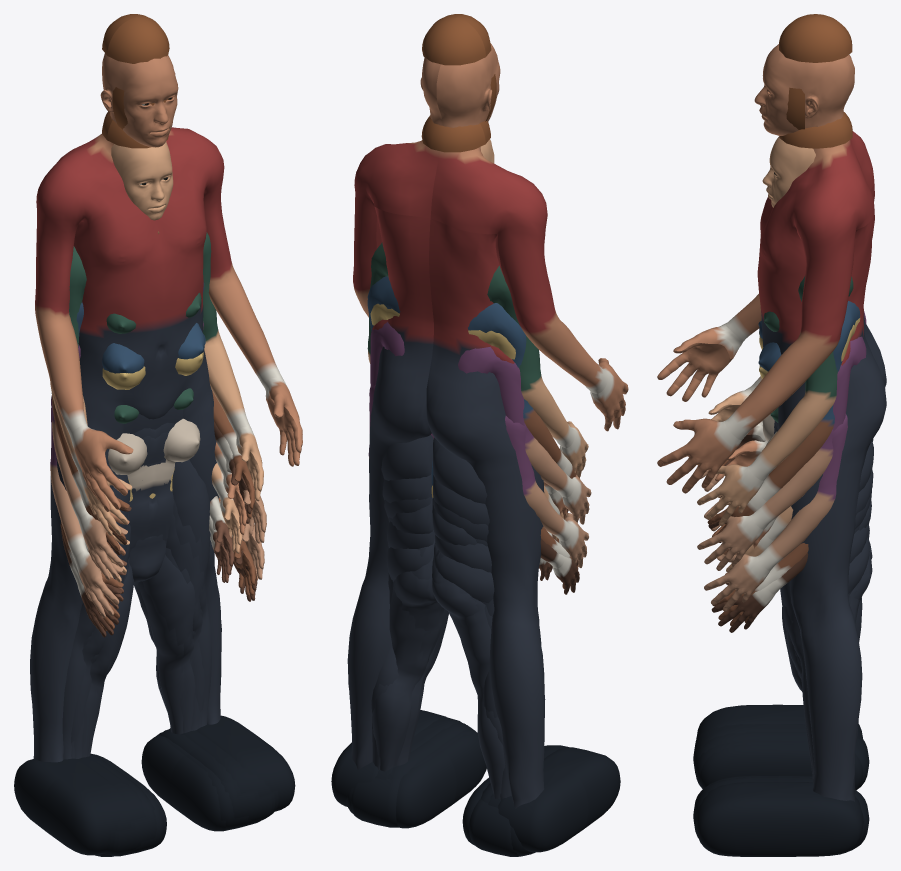
File: crowd-source.glb
The picture shows the model from 3 angles, left to right: view 1: azimuth 30°, elevation 25°; view 2: azimuth 150°, elevation 25°; view 3: azimuth 270°, elevation 25°; orthographic projection. The views are drawn at different scales.
Visible parts, largest first — view 1: crowd-6, crowd-3, crowd-5, crowd-11, crowd-8, crowd-7, crowd-0, crowd-10, crowd-4, crowd-2, crowd-9, crowd-1; view 2: crowd-6, crowd-1, crowd-3, crowd-4, crowd-11, crowd-7, crowd-2, crowd-10, crowd-8, crowd-5, crowd-9, crowd-0; view 3: crowd-6, crowd-3, crowd-4, crowd-10, crowd-7, crowd-11, crowd-8, crowd-1, crowd-2, crowd-5, crowd-0, crowd-9.
Part boxes in pixels (left/top/right/bottom): crowd-6: left=14, top=14, right=302, bottom=855; crowd-3: left=50, top=111, right=278, bottom=853; crowd-5: left=82, top=418, right=262, bottom=856; crowd-11: left=88, top=516, right=239, bottom=852; crowd-8: left=71, top=352, right=251, bottom=809; crowd-7: left=51, top=207, right=275, bottom=854; crowd-0: left=74, top=442, right=272, bottom=855; crowd-10: left=50, top=395, right=264, bottom=856; crowd-4: left=51, top=321, right=266, bottom=580; crowd-2: left=61, top=468, right=257, bottom=856; crowd-9: left=90, top=388, right=263, bottom=855; crowd-1: left=60, top=497, right=255, bottom=736; crowd-6: left=331, top=14, right=628, bottom=852; crowd-1: left=351, top=461, right=578, bottom=856; crowd-3: left=367, top=115, right=588, bottom=807; crowd-4: left=346, top=322, right=591, bottom=855; crowd-11: left=392, top=558, right=552, bottom=844; crowd-7: left=367, top=276, right=576, bottom=525; crowd-2: left=394, top=485, right=579, bottom=856; crowd-10: left=368, top=385, right=588, bottom=744; crowd-8: left=370, top=303, right=567, bottom=803; crowd-5: left=386, top=531, right=556, bottom=791; crowd-9: left=387, top=486, right=566, bottom=572; crowd-0: left=372, top=319, right=568, bottom=730; crowd-6: left=657, top=14, right=886, bottom=856; crowd-3: left=695, top=112, right=873, bottom=833; crowd-4: left=697, top=311, right=871, bottom=851; crowd-10: left=704, top=414, right=850, bottom=611; crowd-7: left=694, top=301, right=873, bottom=836; crowd-11: left=698, top=578, right=863, bottom=790; crowd-8: left=703, top=318, right=871, bottom=789; crowd-1: left=712, top=524, right=870, bottom=850; crowd-2: left=711, top=522, right=872, bottom=850; crowd-5: left=695, top=414, right=869, bottom=786; crowd-0: left=693, top=341, right=859, bottom=837; crowd-9: left=718, top=407, right=869, bottom=678.
Bounding box in the file's own units: 0.6587 × 2.23 × 0.5844.
